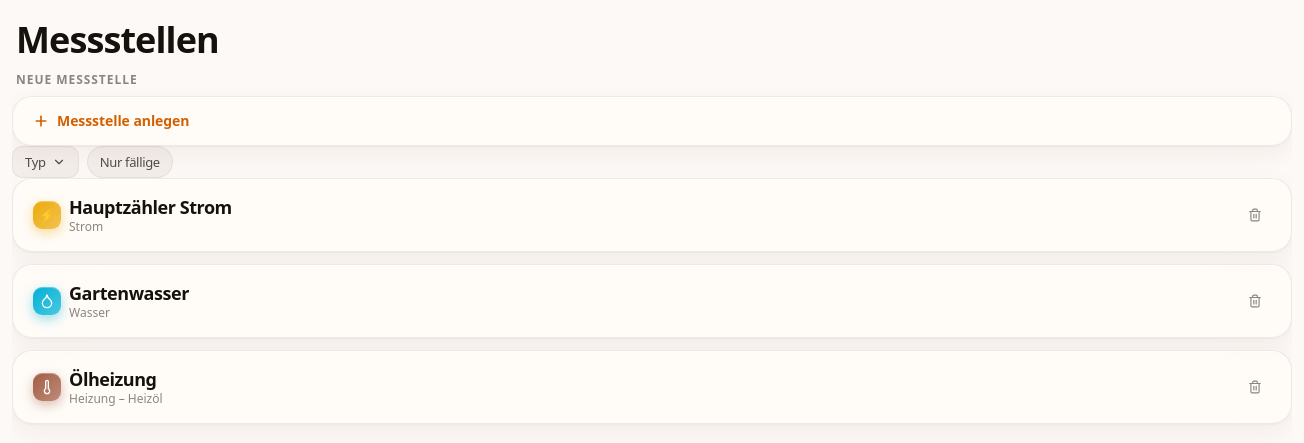
Test case: MeasuringPointsAdminPage Wizard › filtert die Liste per Typ-Dropdown und setzt zurück
This screenshot has width=1304, height=443.
Check: the text "Hauptzähler Strom" is shown, box [69, 195, 232, 219]
Check: the text "Gartenwasser" is shown, box [69, 281, 189, 305]
Note: Typ-Dropdown öffnen, "Wasser" ankreuzen → nur die Wasser-Card bleibt
Click the button "Typ" at point(45, 162), box [12, 146, 79, 178]
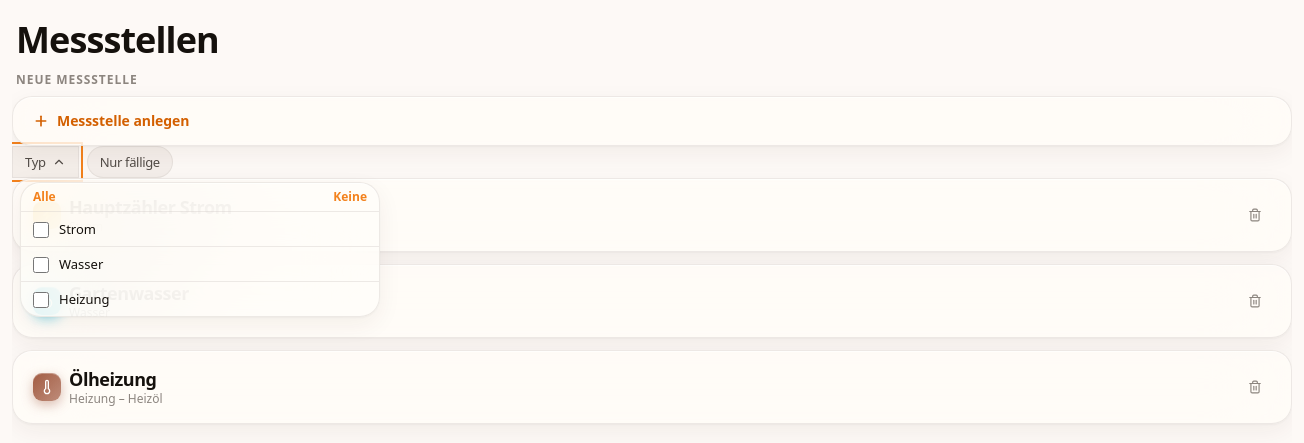
Click the checkbox labelled "Wasser" at point(41, 265), box [33, 257, 49, 273]
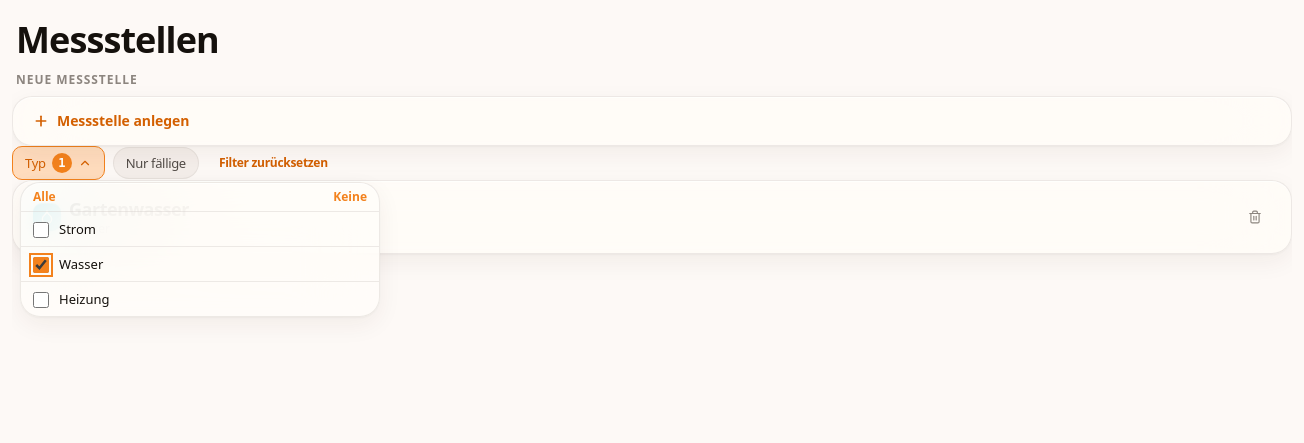
Check: the text "Gartenwasser" is shown, box [69, 197, 189, 221]
Check: the link "Ölheizung" is gone
Note: "Wasser" wieder abwählen → wieder alle drei
Click the checkbox labelled "Wasser" at point(41, 265), box [33, 257, 49, 273]
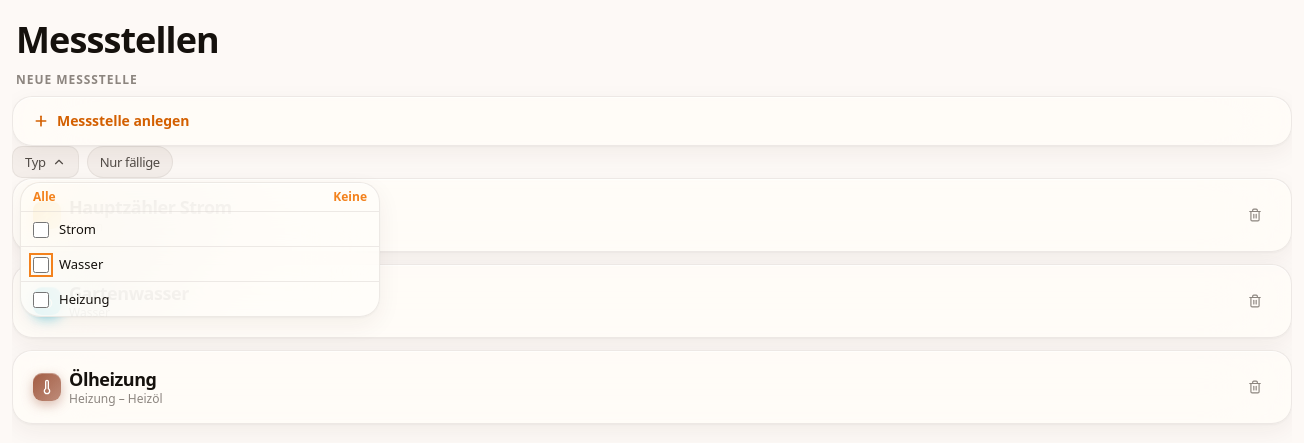
Check: the text "Hauptzähler Strom" is shown, box [69, 195, 232, 219]
Check: the text "Ölheizung" is shown, box [69, 367, 157, 391]
